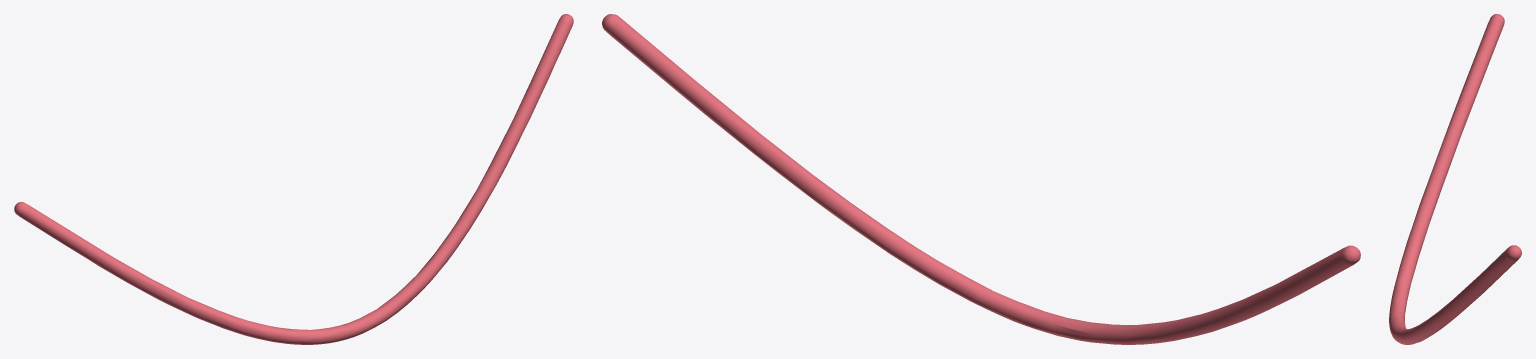
Rendered from fma50856_fj4718.glb.
3 renders of one model, left to right at view 1: azimuth 30°, elevation 25°; view 2: azimuth 150°, elevation 25°; view 3: azimuth 270°, elevation 25°, orthographic. The views are drawn at different scales.
Visible parts, largest first — view 1: FMA50856_FJ4718; view 2: FMA50856_FJ4718; view 3: FMA50856_FJ4718.
Part boxes in pixels (<box>): FMA50856_FJ4718: <box>14,14,573,344</box>; FMA50856_FJ4718: <box>602,14,1360,344</box>; FMA50856_FJ4718: <box>1389,14,1521,344</box>.
Size of the model in its own units: 0.0384 by 0.0139 by 0.00751.
